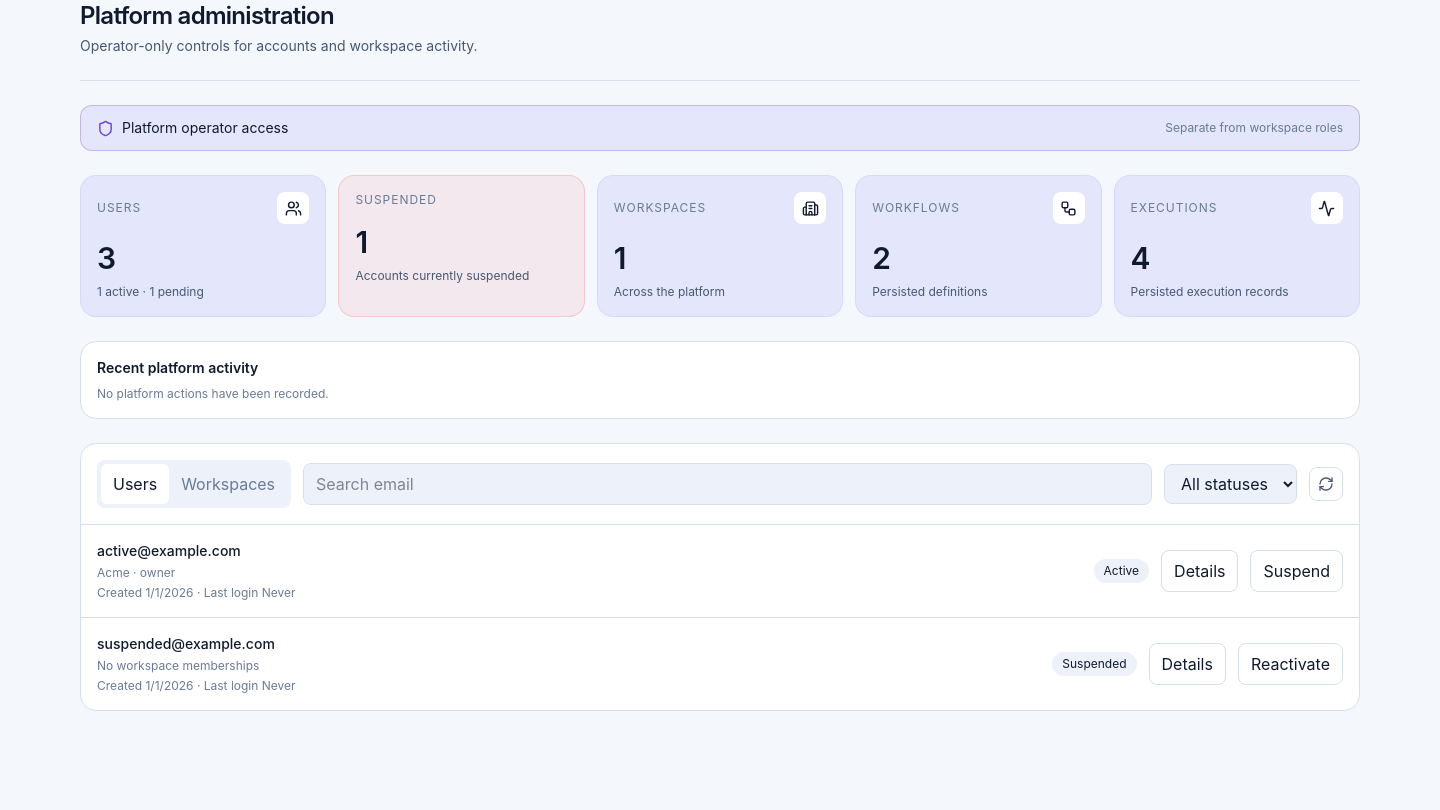
Test case: PlatformAdminPage › can cancel a suspend confirmation and confirms reactivation too
The width and height of the screenshot is (1440, 810).
Expected: the text "suspended@example.com" is shown, [97,635,275,652]
What coordinates should you click on to do the following:
click the button "Reactivate"
I would click on:
 (1290, 664)
Its box is [1238,643,1343,685].
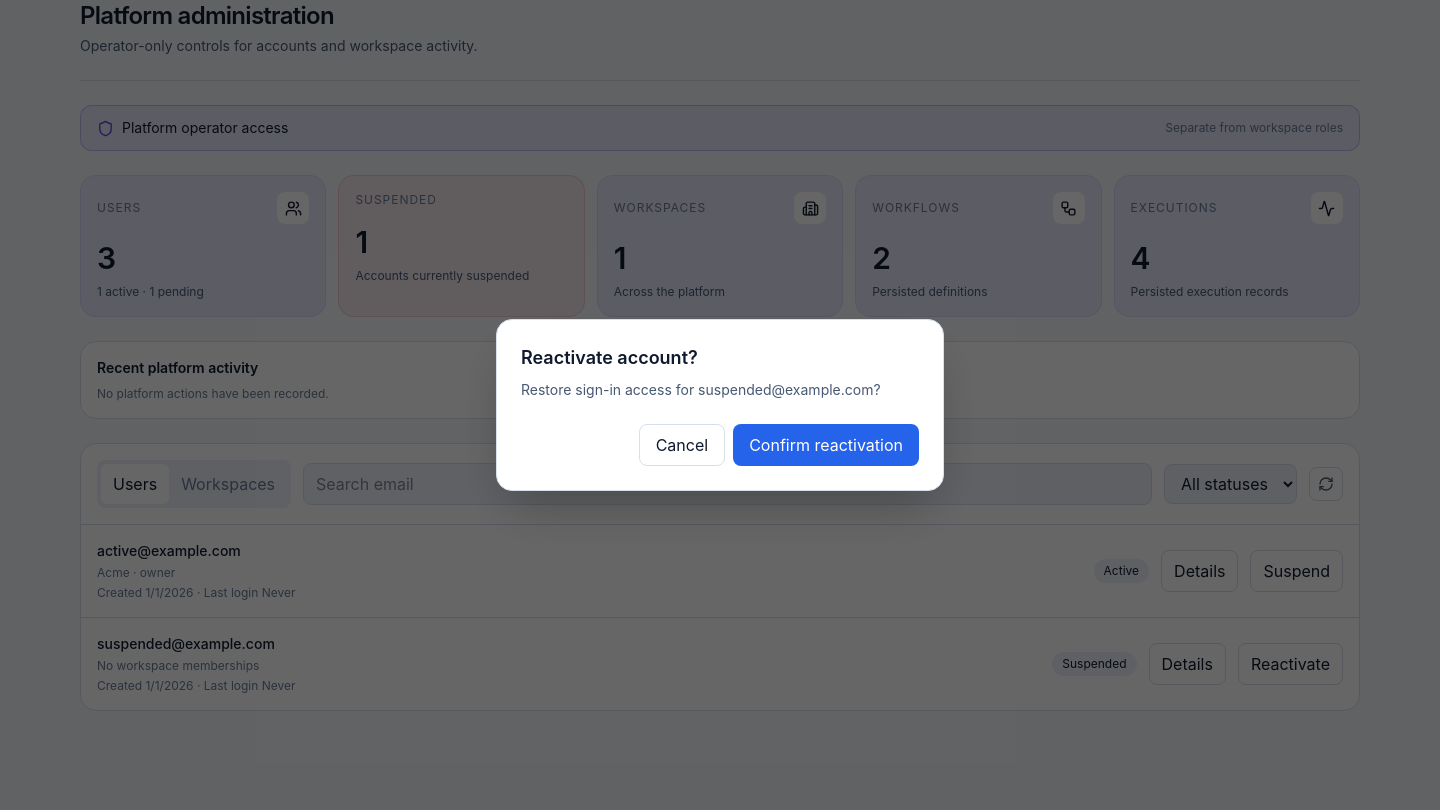
Now the dialog shows "Reactivate account", box [521,347,698,368]
What coordinates should you click on to do the following:
click the button "Cancel"
I would click on:
 (682, 445)
Its box is [639,424,725,466].
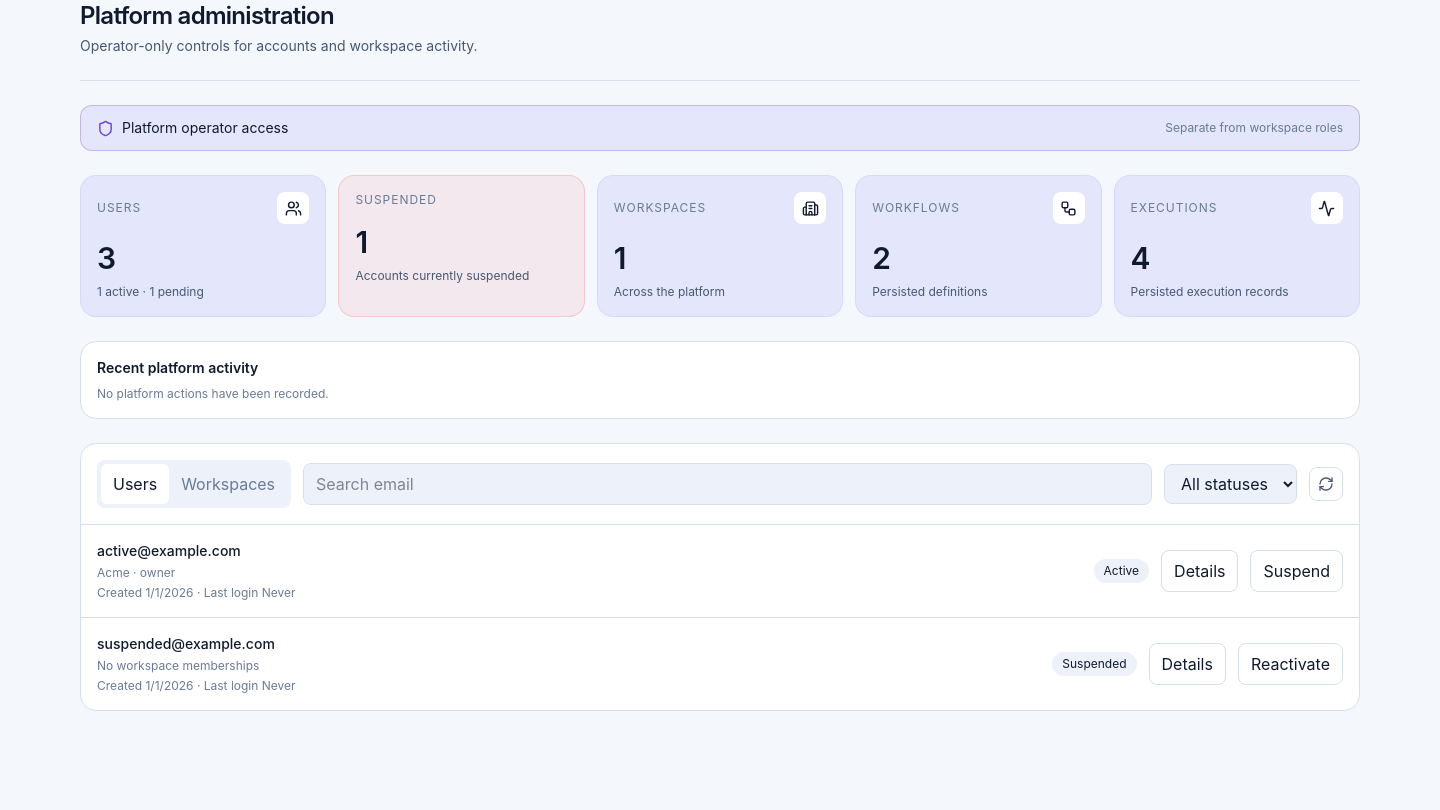
Now the dialog is gone
What coordinates should you click on to do the following:
click the button "Reactivate"
I would click on:
 (1290, 664)
Its box is [1238,643,1343,685].
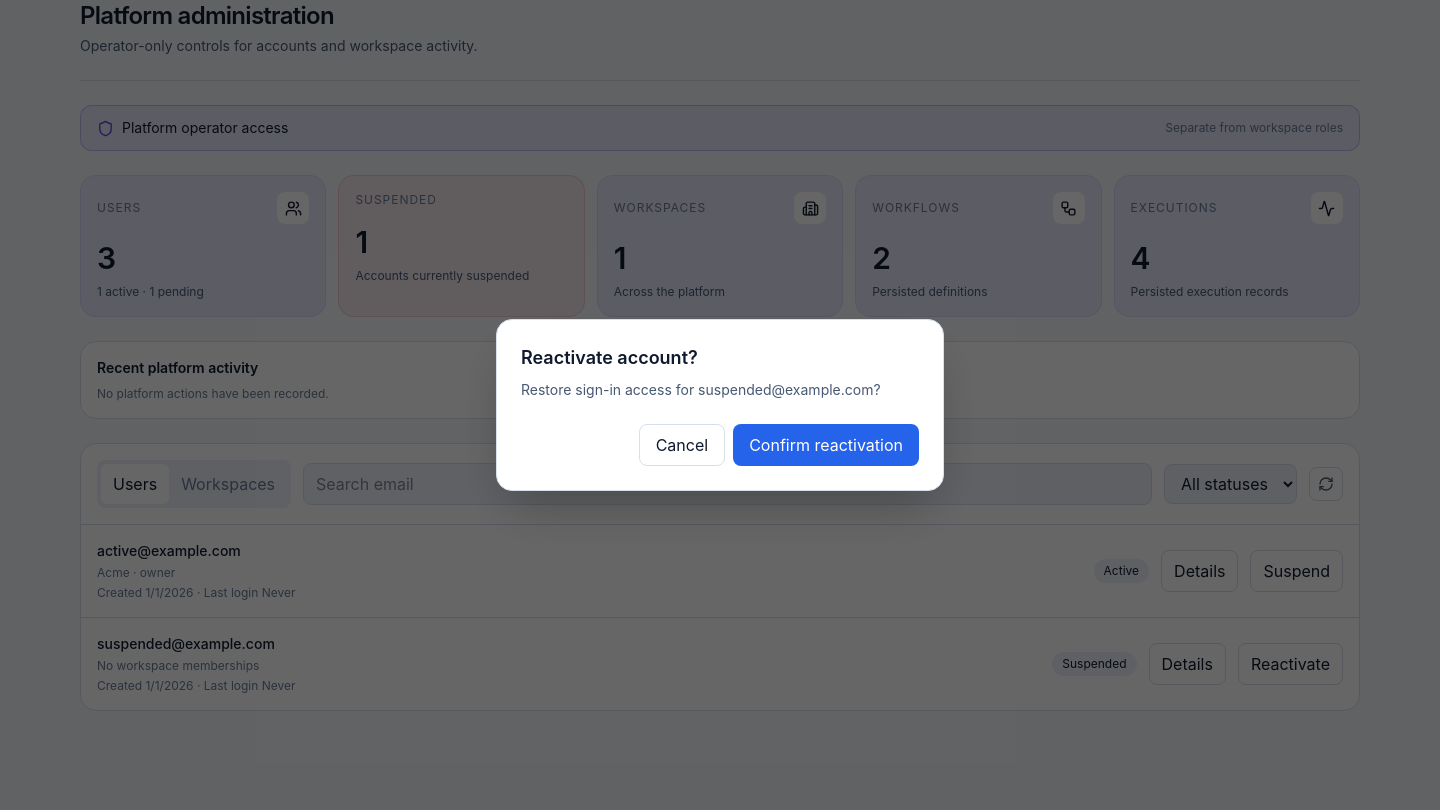
What coordinates should you click on to do the following:
click the button "Confirm reactivation"
I would click on:
 (826, 445)
Its box is [733,424,919,466].
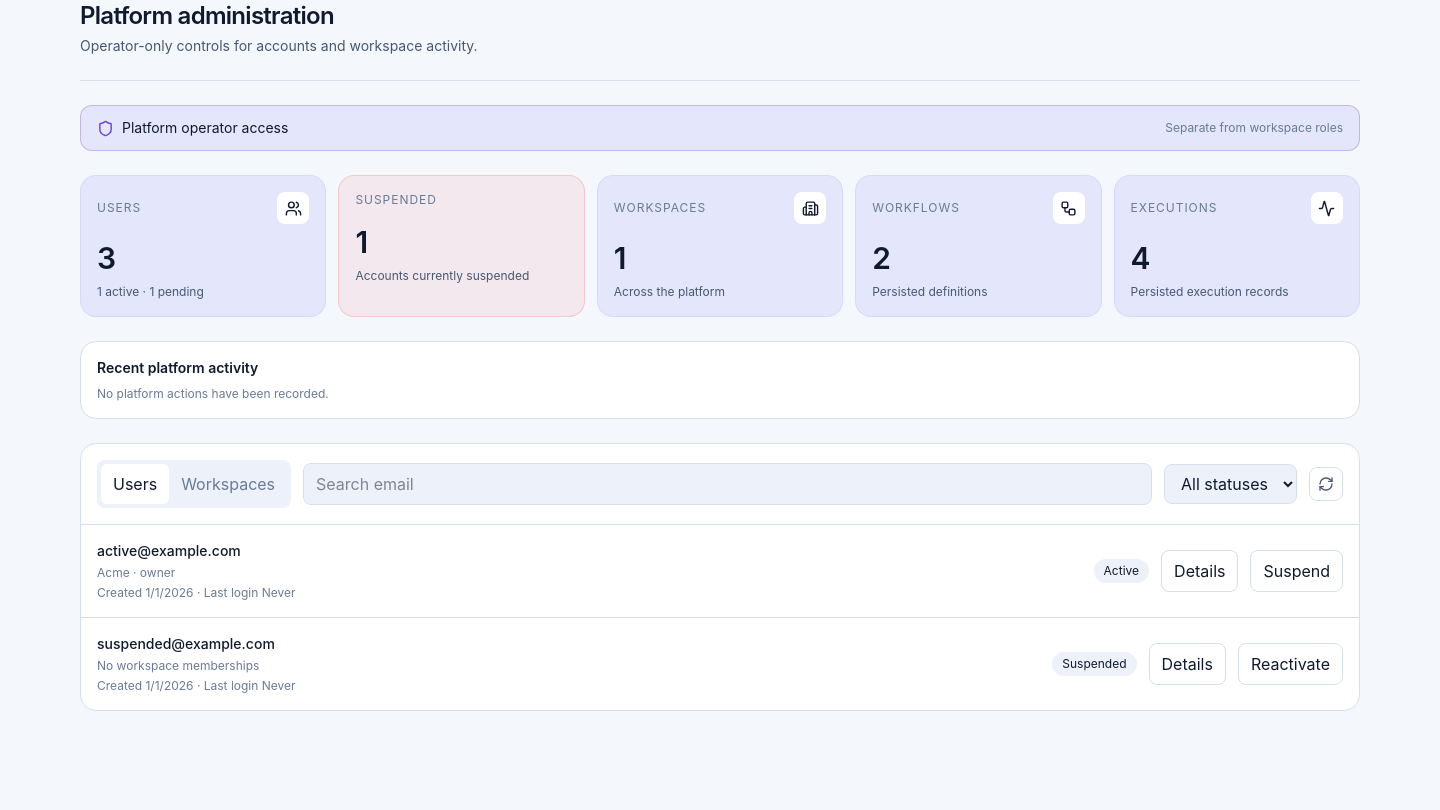
Now the dialog is gone
